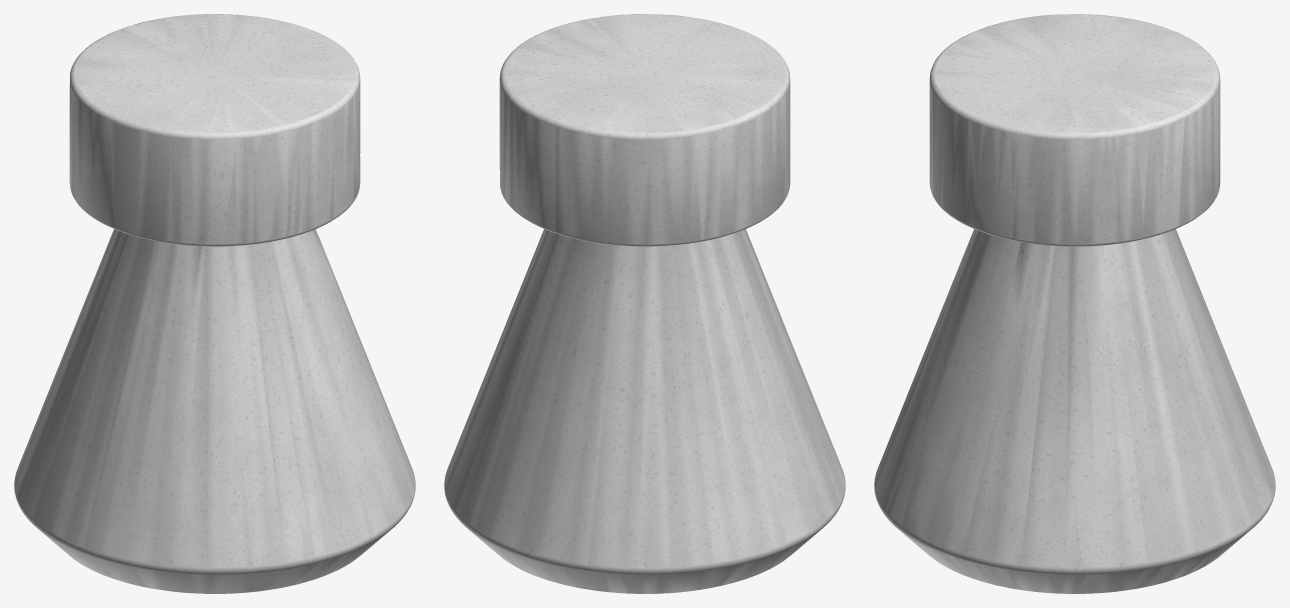
File: rook-white.glb
3 renders of one model, left to right at view 1: azimuth 30°, elevation 25°; view 2: azimuth 150°, elevation 25°; view 3: azimuth 270°, elevation 25°, orthographic.
Visible parts, largest first — view 1: 03_vez_bila; view 2: 03_vez_bila; view 3: 03_vez_bila.
Boxes of the visible parts, x1=… form: 03_vez_bila: x1=14, y1=14, x2=415, y2=593; 03_vez_bila: x1=444, y1=14, x2=845, y2=593; 03_vez_bila: x1=874, y1=14, x2=1275, y2=593.
Bounding box in the file's own units: 0.7959 × 0.99 × 0.796.
1 material, 1 textured.
